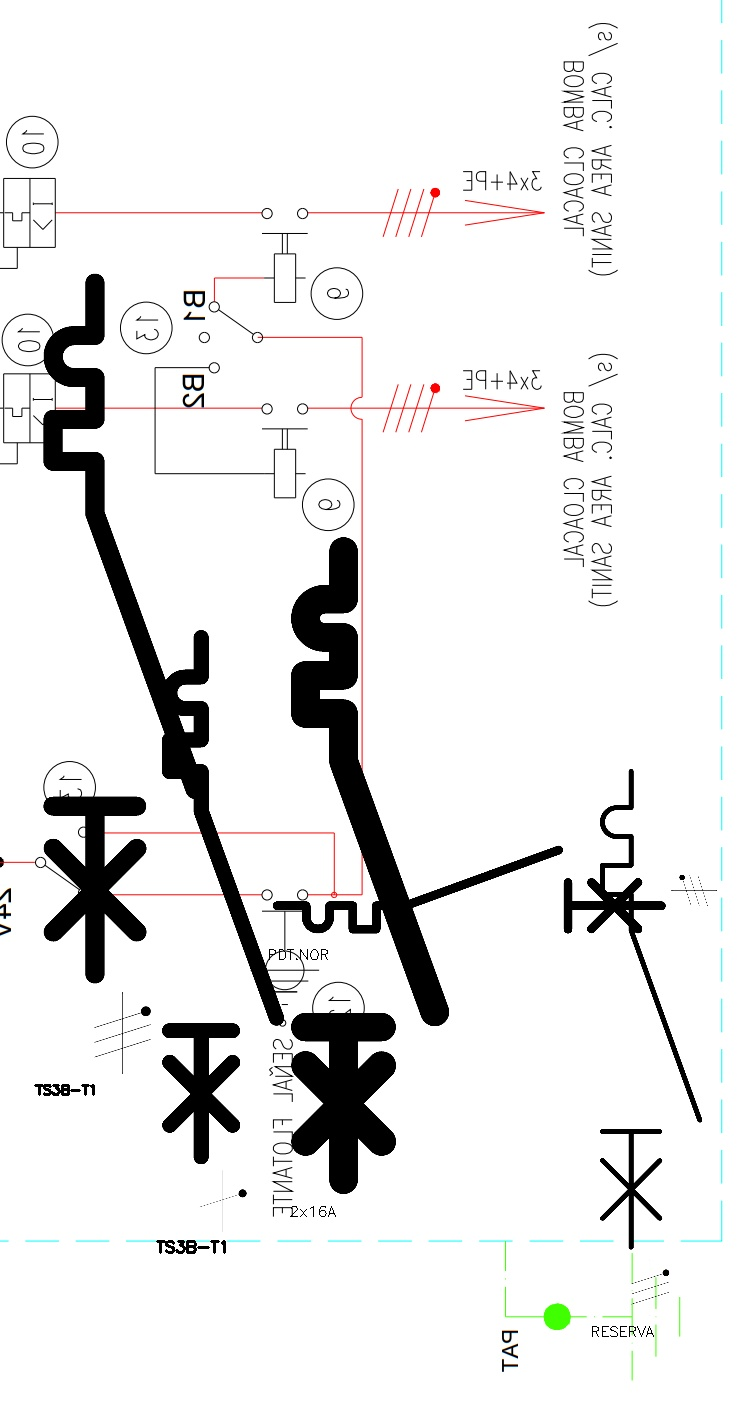interruptor_termomagnetico: (35, 265, 213, 992), (289, 535, 451, 1196), (156, 624, 289, 1170), (590, 759, 712, 1260), (267, 840, 671, 939)
